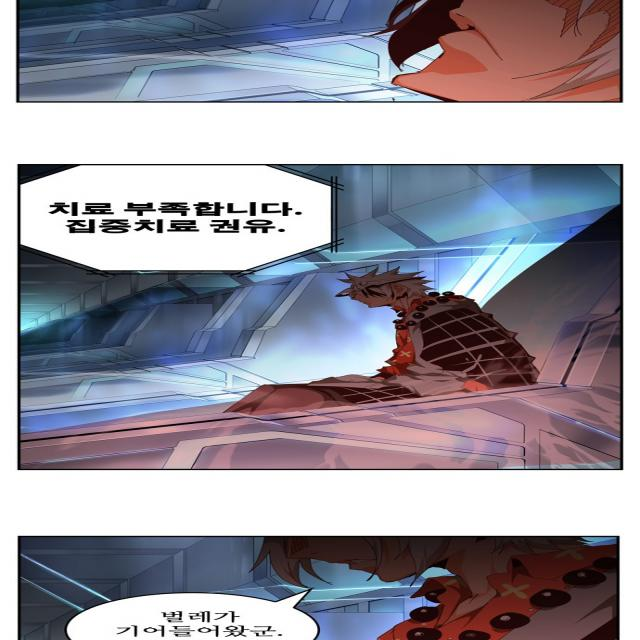Bubble: (15, 163, 339, 273), (64, 592, 318, 640)
